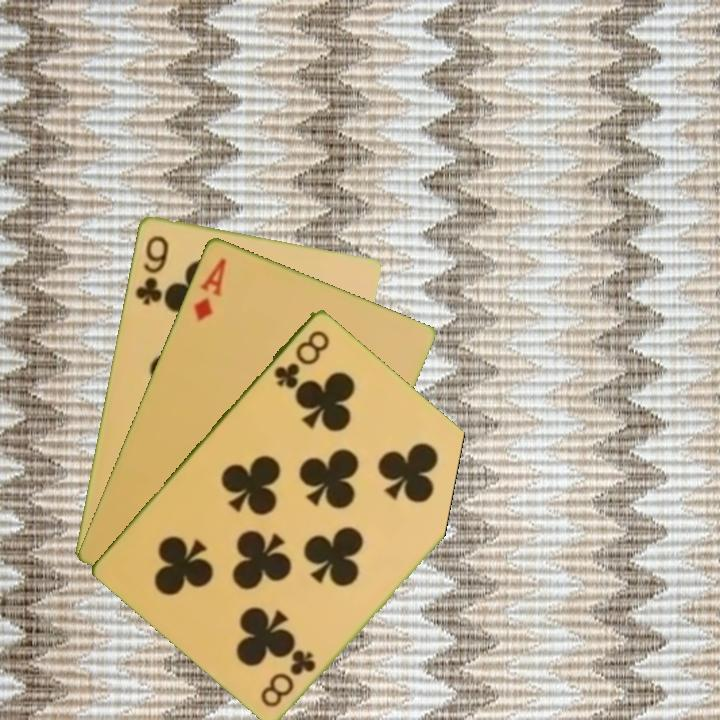8c: (270, 325, 333, 391), (257, 646, 319, 710)
9c: (131, 231, 171, 308)
Ad: (190, 253, 229, 324)
